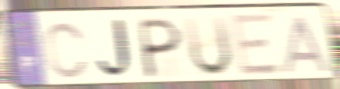A: (282, 14, 335, 75)
C: (44, 20, 91, 81)
E: (228, 12, 284, 80)
J: (95, 17, 139, 82)
P: (138, 15, 184, 80)
U: (181, 14, 235, 79)
